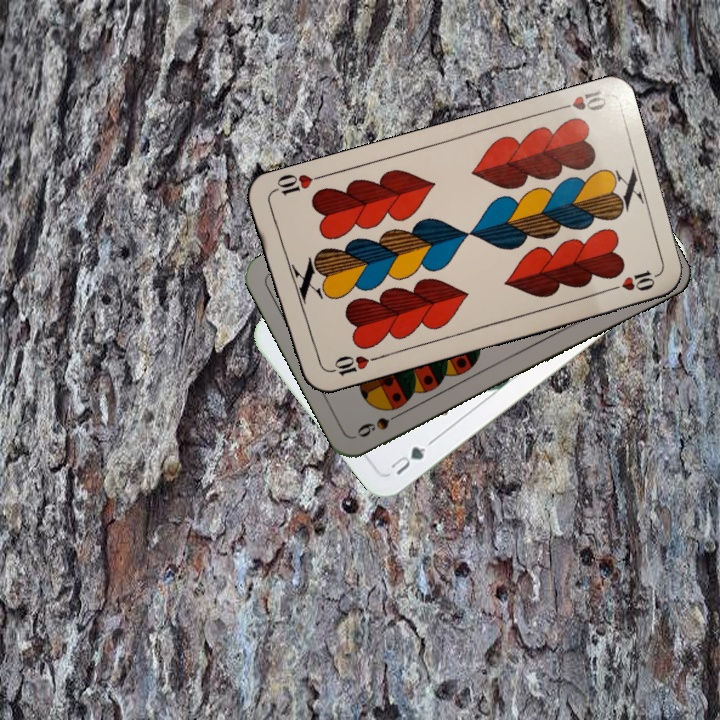GU: (386, 442, 429, 478)
H10: (322, 351, 381, 379), (550, 86, 609, 114)
S9: (352, 406, 408, 440)
